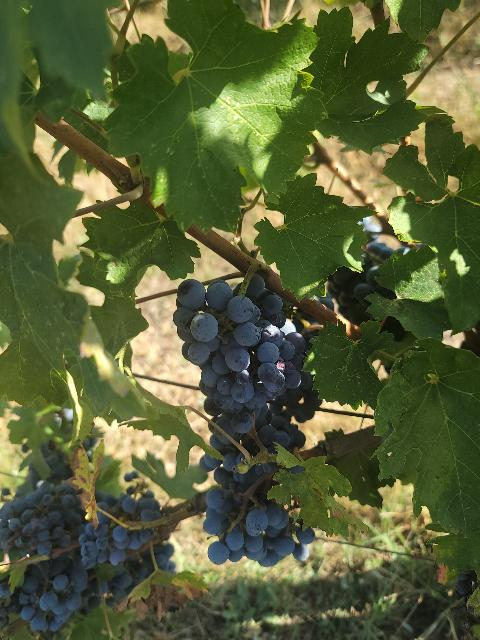grapes: (172, 274, 301, 432), (208, 504, 314, 566), (202, 489, 240, 535)
